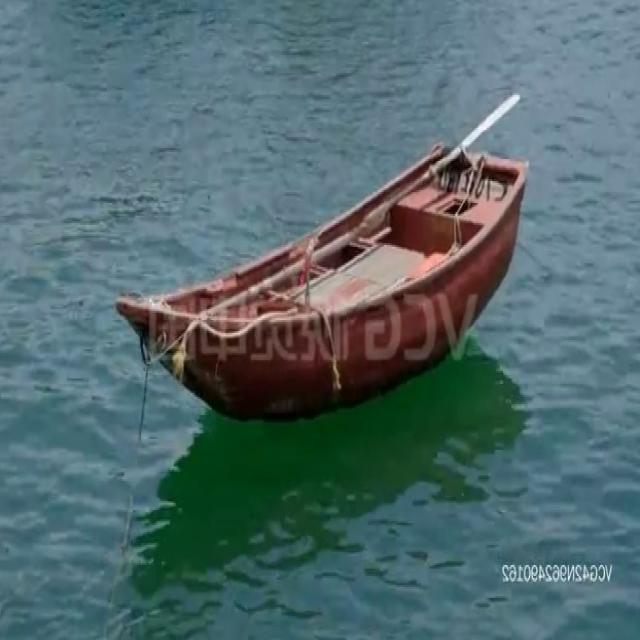fishing boat: (114, 88, 536, 428)
